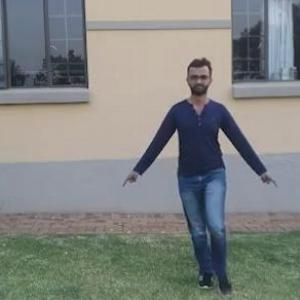land: (143, 74, 259, 250)
